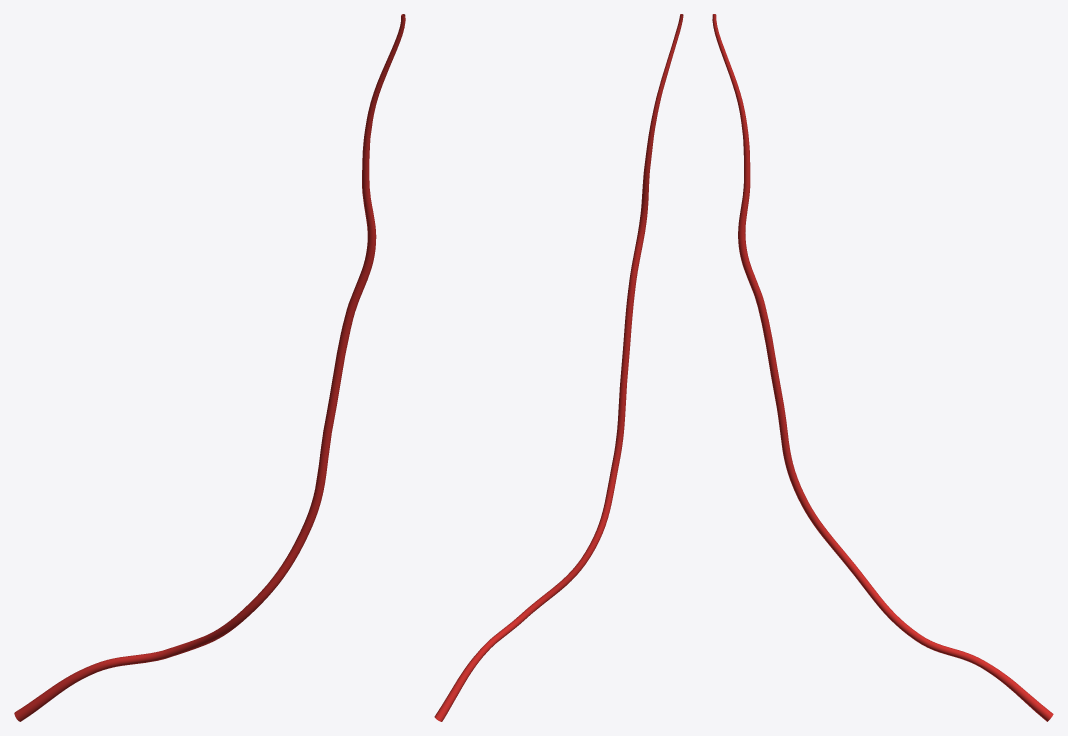
The model's file is circulatorio-inferior-epigastric-artery-l.glb.
3 renders of one model, left to right at view 1: azimuth 90°, elevation 25°; view 2: azimuth 150°, elevation 25°; view 3: azimuth 270°, elevation 25°, orthographic. The views are drawn at different scales.
Parts seen in each view (by area): view 1: Inferior epigastric artery.l; view 2: Inferior epigastric artery.l; view 3: Inferior epigastric artery.l.
Boxes of the visible parts, x1,y1,x2,y2 form: Inferior epigastric artery.l: [14, 14, 405, 721]; Inferior epigastric artery.l: [434, 14, 683, 721]; Inferior epigastric artery.l: [712, 14, 1053, 721].
Bounding box in the file's own units: 0.0296 × 0.1875 × 0.0876.
